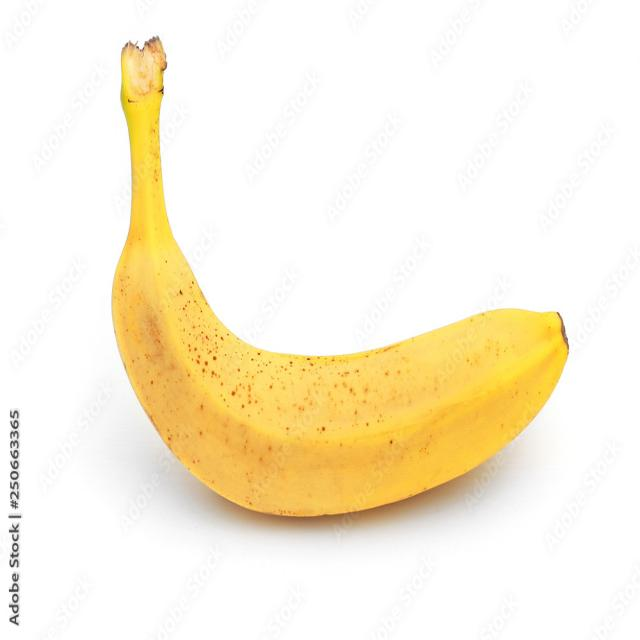non_orange: (101, 28, 577, 528)
